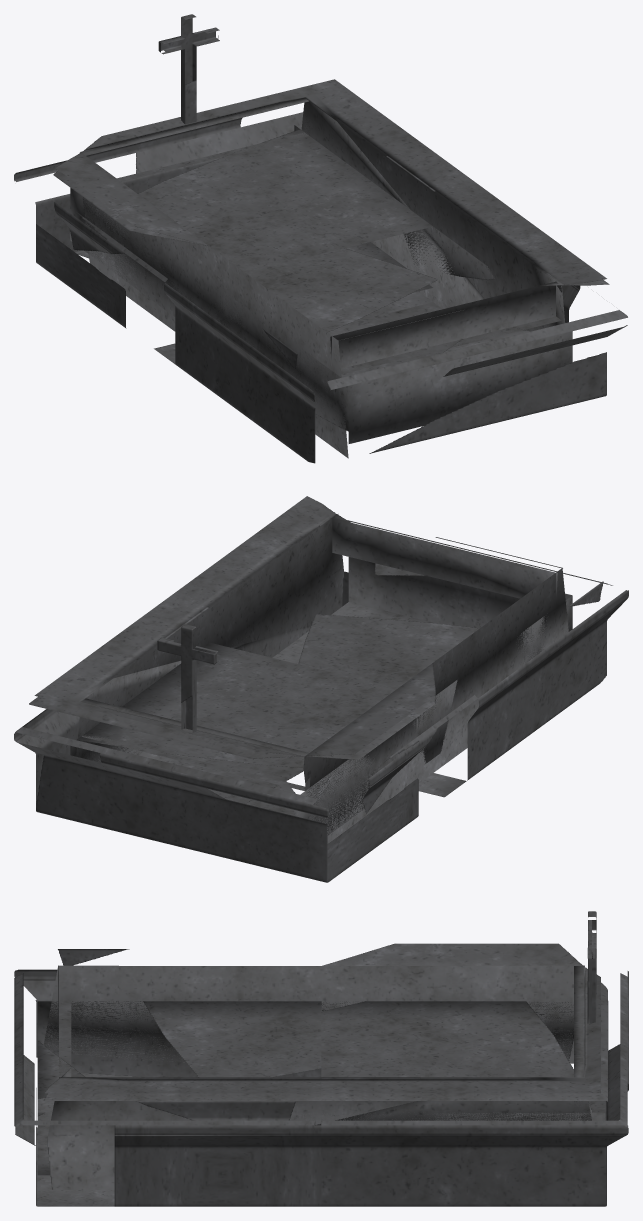
The model's file is grave_02.fbx.
3 views of the same model, one above another, from view 1: azimuth 30°, elevation 25°; view 2: azimuth 150°, elevation 25°; view 3: azimuth 270°, elevation 25° (orthographic). The views are drawn at different scales.
Visible parts, largest first — view 1: grave.001; view 2: grave.001; view 3: grave.001.
Part boxes in pixels (left/top/right/bottom): grave.001: left=14, top=14, right=627, bottom=463; grave.001: left=14, top=496, right=628, bottom=882; grave.001: left=14, top=911, right=628, bottom=1206.
Bounding box in the file's own units: 215 × 141 × 357.
